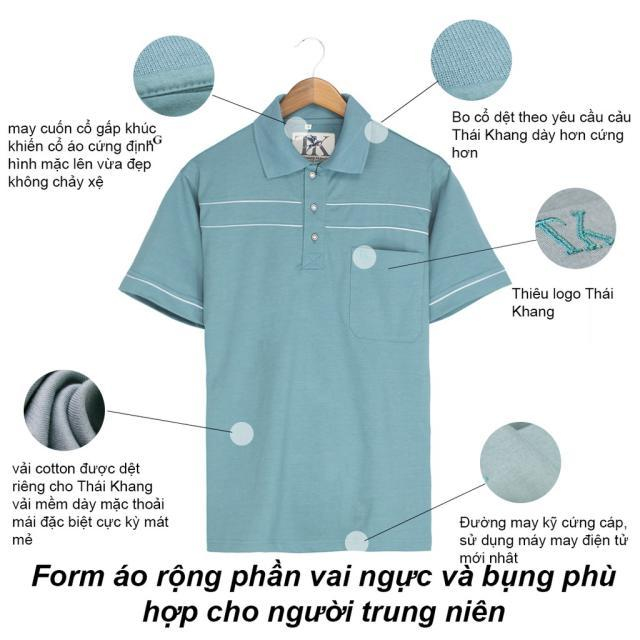Shirt: (116, 85, 524, 558)
